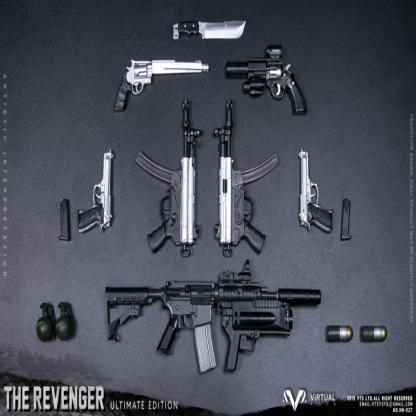Grenade: (57, 298, 79, 345), (35, 299, 56, 344)
Gun: (103, 256, 322, 377), (213, 99, 282, 260), (135, 99, 204, 259)
Knife: (173, 19, 248, 43)
Pistol: (224, 44, 308, 119), (114, 55, 210, 113), (77, 145, 119, 236), (296, 144, 335, 236)
